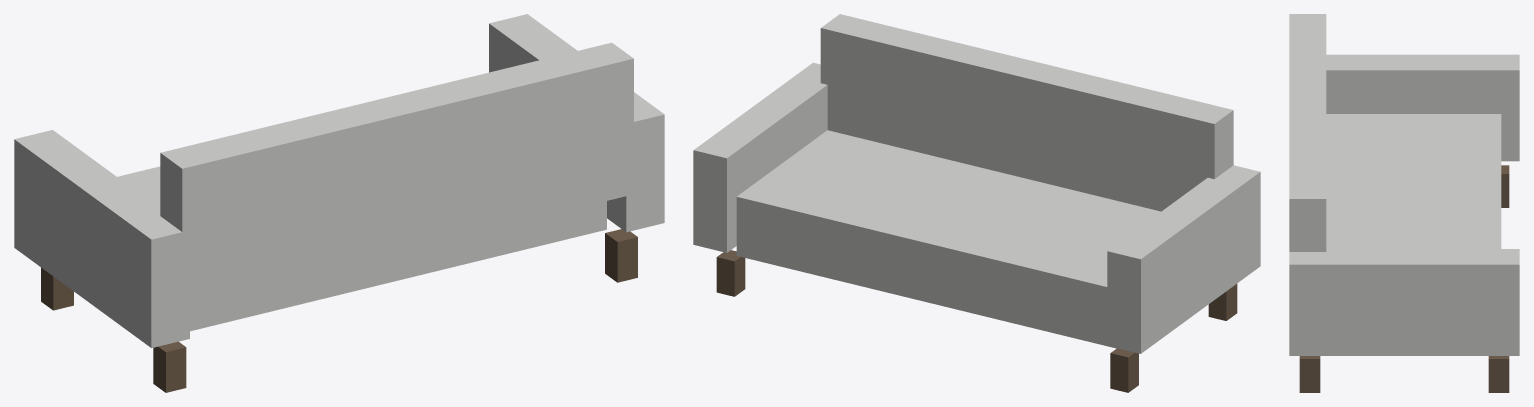
The model's file is catalog-sofa-gray-190.gltf.
3 renders of one model, left to right at view 1: azimuth 30°, elevation 25°; view 2: azimuth 150°, elevation 25°; view 3: azimuth 270°, elevation 25°, orthographic. The views are drawn at different scales.
Visible parts, largest first — view 1: Back, ArmL, Seat, ArmR, Leg11, Leg-11, Leg-1-1; view 2: Seat, Back, ArmL, ArmR, Leg1-1, Leg-1-1, Leg-11; view 3: ArmR, Seat, ArmL, Back, Leg1-1, Leg11, Leg-1-1.
Part boxes in pixels (left/top/right/bottom): Back: left=160, top=42, right=633, bottom=303; ArmL: left=14, top=130, right=189, bottom=348; Seat: left=117, top=166, right=606, bottom=331; ArmR: left=489, top=14, right=664, bottom=232; Leg11: left=605, top=229, right=637, bottom=282; Leg-11: left=153, top=341, right=186, bottom=392; Leg-1-1: left=41, top=267, right=73, bottom=310; Seat: left=736, top=130, right=1160, bottom=348; Back: left=820, top=14, right=1233, bottom=211; ArmL: left=1107, top=165, right=1260, bottom=353; ArmR: left=693, top=62, right=827, bottom=252; Leg1-1: left=716, top=250, right=745, bottom=296; Leg-1-1: left=1110, top=348, right=1138, bottom=392; Leg-11: left=1208, top=284, right=1237, bottom=320; ArmR: left=1289, top=249, right=1519, bottom=355; Seat: left=1326, top=114, right=1501, bottom=248; ArmL: left=1326, top=54, right=1519, bottom=161; Back: left=1289, top=14, right=1326, bottom=251; Leg1-1: left=1488, top=356, right=1509, bottom=392; Leg11: left=1299, top=356, right=1320, bottom=392; Leg-1-1: left=1501, top=165, right=1509, bottom=207.
Bounding box in the file's own units: 1.9 × 0.8 × 0.88.
